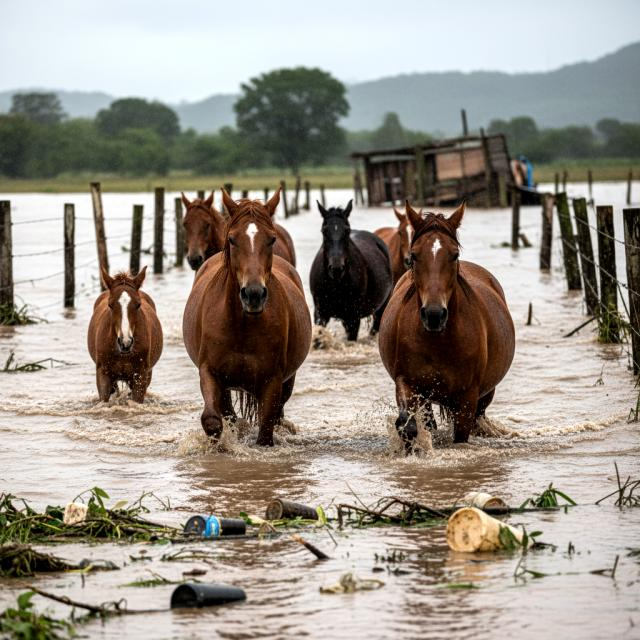horse: (366, 200, 516, 446), (178, 182, 312, 455), (66, 255, 172, 402), (302, 197, 395, 343), (170, 180, 300, 279), (363, 209, 421, 276)
